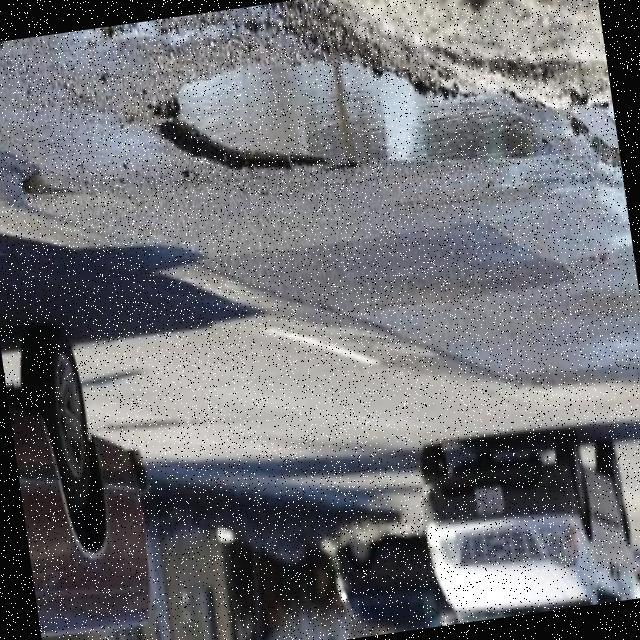Pothole: (155, 58, 579, 171)
